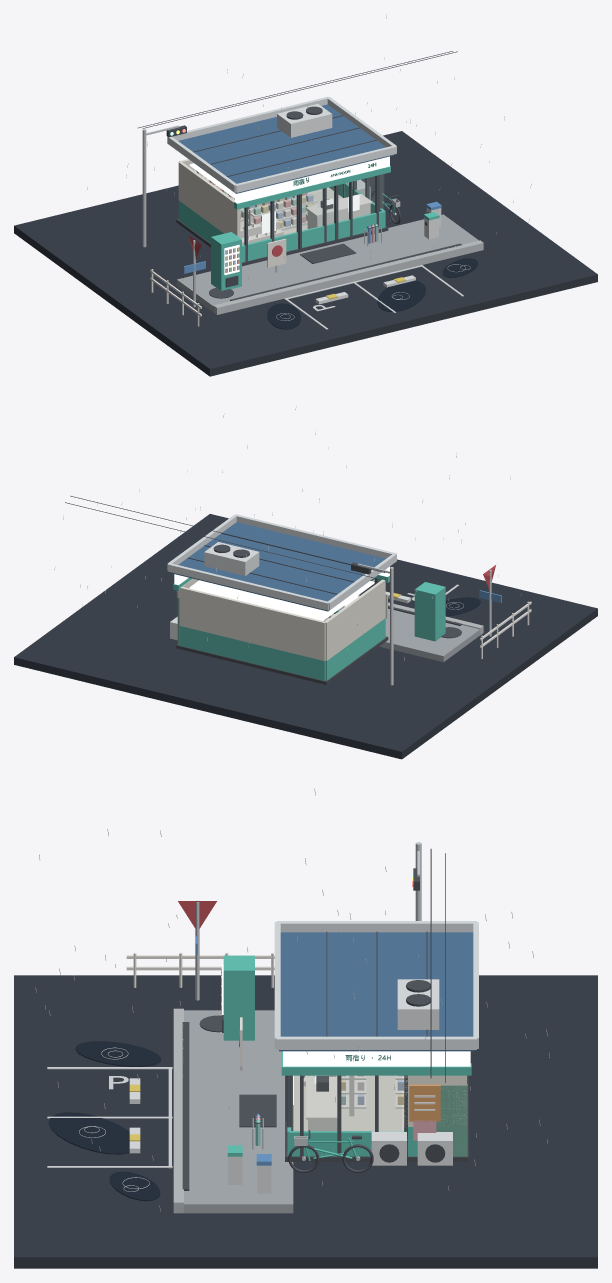
The model's file is konbini_night.glb.
3 views of the same model, one above another, from view 1: azimuth 30°, elevation 25°; view 2: azimuth 150°, elevation 25°; view 3: azimuth 270°, elevation 25° (orthographic). The views are drawn at different scales.
Visible parts, largest first — view 1: asphalt, roof, sidewalk, glass_front, curb, wall_left_up, kick_front, sign_front, parapet_par_f, vend_body, roof_ac, parapet_par_b (+12 smaller); view 2: asphalt, roof, wall_back_up, wall_back_low, wall_left_up, sidewalk, ceiling_glow, vend_body, parapet_par_b, parapet_par_f, wall_left_low, roof_ac (+5 smaller); view 3: asphalt, roof, sidewalk, glass_right, sign_right, parapet_par_r, store_floor, vend_body, puddle_1, parapet_par_l, curb, band_right (+15 smaller).
Boxes of the visible parts, x1,y1,x2,y2 form: asphalt: (14, 131, 597, 376); roof: (178, 104, 393, 193); sidewalk: (176, 214, 478, 312); glass_front: (241, 174, 383, 244); curb: (213, 240, 483, 314); wall_left_up: (178, 162, 240, 237); kick_front: (242, 211, 384, 262); sign_front: (234, 156, 389, 203); parapet_par_f: (235, 145, 396, 192); vend_body: (211, 232, 241, 290); roof_ac: (277, 104, 332, 137); parapet_par_b: (172, 96, 328, 140); asphalt: (14, 514, 597, 759); roof: (170, 522, 385, 611); wall_back_up: (179, 586, 325, 660); wall_back_low: (179, 626, 325, 680); wall_left_up: (325, 579, 385, 660); sidewalk: (176, 591, 480, 662); ceiling_glow: (189, 580, 374, 620); vend_body: (414, 582, 445, 641); parapet_par_b: (168, 563, 329, 610); parapet_par_f: (235, 514, 396, 558); wall_left_low: (325, 618, 385, 680); roof_ac: (204, 542, 259, 575); asphalt: (14, 975, 597, 1268); roof: (279, 932, 474, 1051); sidewalk: (177, 1010, 293, 1213); glass_right: (294, 1076, 401, 1131); sign_right: (283, 1051, 470, 1066); parapet_par_r: (276, 1036, 476, 1049); store_floor: (293, 1075, 403, 1130); vend_body: (223, 955, 254, 1040); puddle_1: (48, 1112, 129, 1154); parapet_par_l: (276, 921, 476, 932); curb: (173, 1008, 183, 1213); band_right: (282, 1063, 471, 1075).
Bounding box in the file's own units: 16 × 6.36 × 14.
